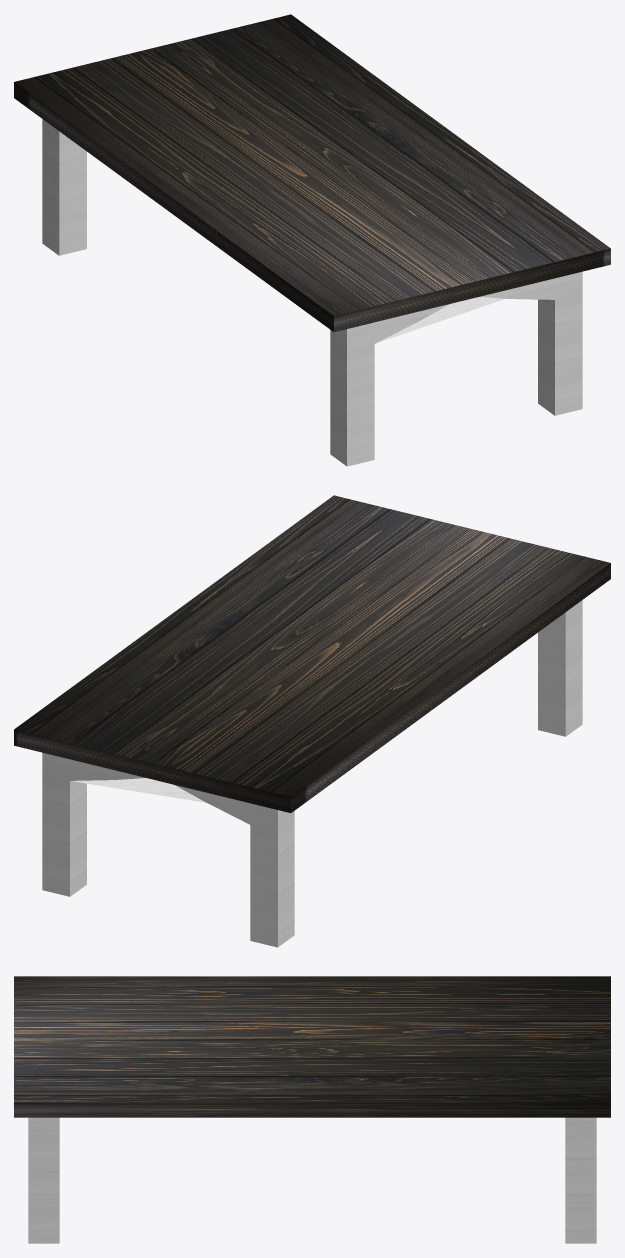
Rendered from DiningTable.fbx.
3 renders of one model, top to bottom at view 1: azimuth 30°, elevation 25°; view 2: azimuth 150°, elevation 25°; view 3: azimuth 270°, elevation 25°, orthographic. The views are drawn at different scales.
Parts seen in each view (by area): view 1: Table; view 2: Table; view 3: Table.
Boxes of the visible parts, box(x1,y1,x2,y2) form: Table: box(14, 14, 610, 466); Table: box(14, 495, 610, 947); Table: box(14, 976, 610, 1243).
Bounding box in the file's own units: 200 × 114 × 400.
